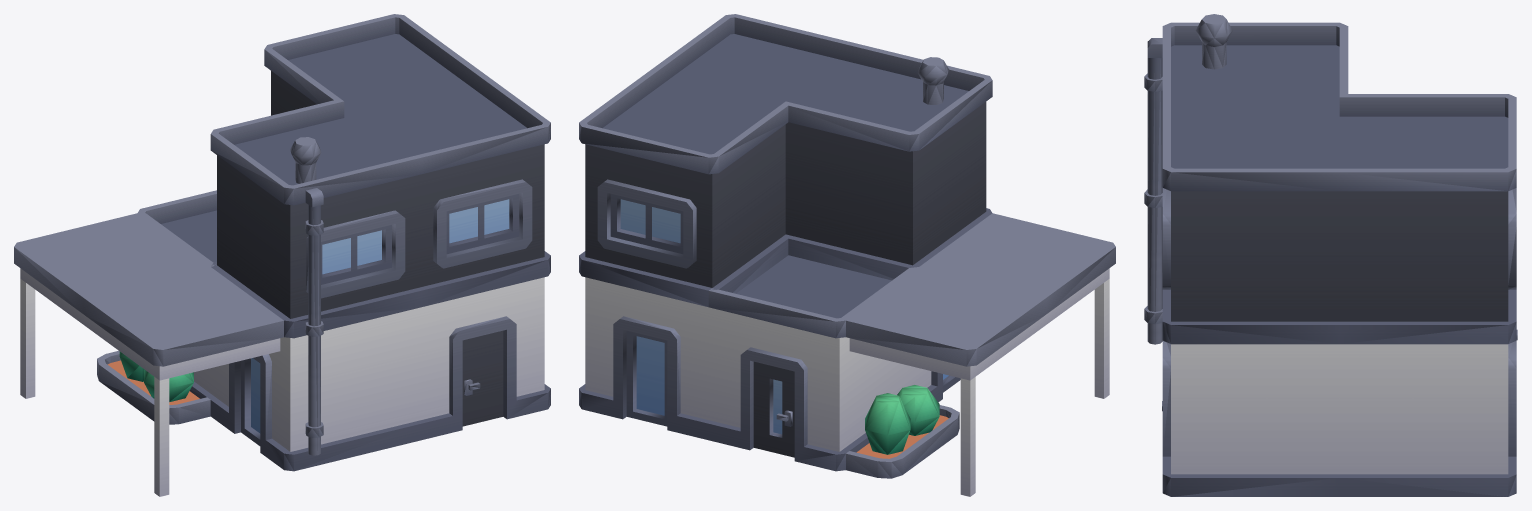
File: ks_house_q.fbx
3 renders of one model, left to right at view 1: azimuth 30°, elevation 25°; view 2: azimuth 150°, elevation 25°; view 3: azimuth 270°, elevation 25°, orthographic. The views are drawn at different scales.
Parts seen in each view (by area): view 1: ks_house_q_LOD0; view 2: ks_house_q_LOD0; view 3: ks_house_q_LOD0.
Part boxes in pixels (bbox=[...]): ks_house_q_LOD0: bbox=[14, 14, 550, 496]; ks_house_q_LOD0: bbox=[579, 14, 1115, 496]; ks_house_q_LOD0: bbox=[1144, 14, 1517, 496].
Size of what is drawn, in the model's own units: 10.54 by 7.8 by 7.53.
